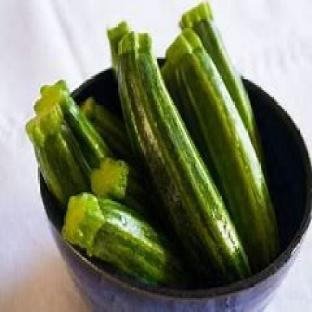Zucchini: (116, 33, 249, 282), (167, 28, 278, 272), (34, 80, 146, 209), (181, 2, 263, 166), (63, 195, 185, 286), (26, 105, 89, 209), (81, 98, 133, 162), (107, 21, 130, 67)
